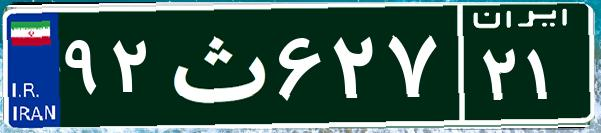1: (525, 38, 570, 115)
2: (330, 28, 385, 110), (475, 38, 525, 113), (110, 28, 158, 105)
6: (273, 28, 330, 110)
7: (385, 28, 445, 110)
9: (57, 26, 110, 107)
ث: (158, 15, 273, 115)
